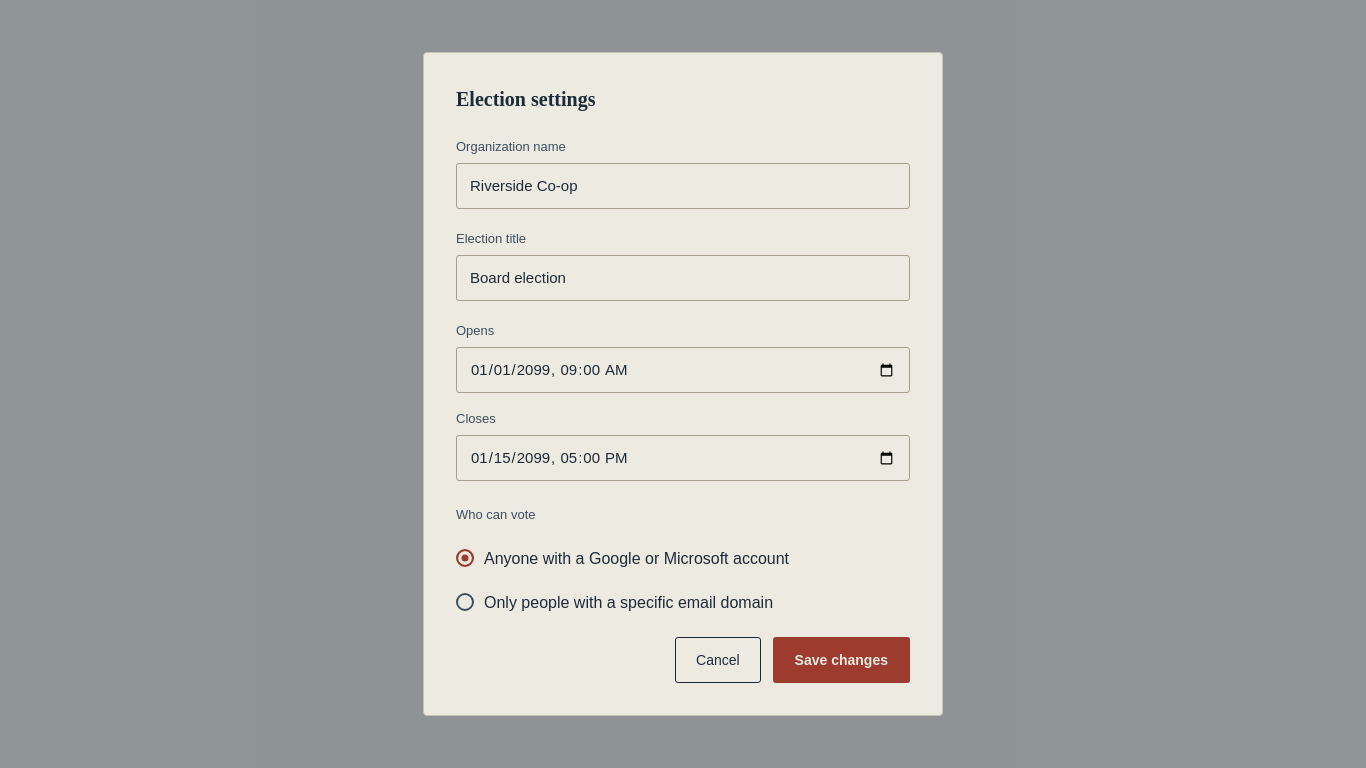
Test: ElectionSettingsModal validation › blocks save when voting closes before it opens
Replace the text in the field labelled "Closes" with "2000-01-01T00:00" at (683, 458), box [456,435,910,481]
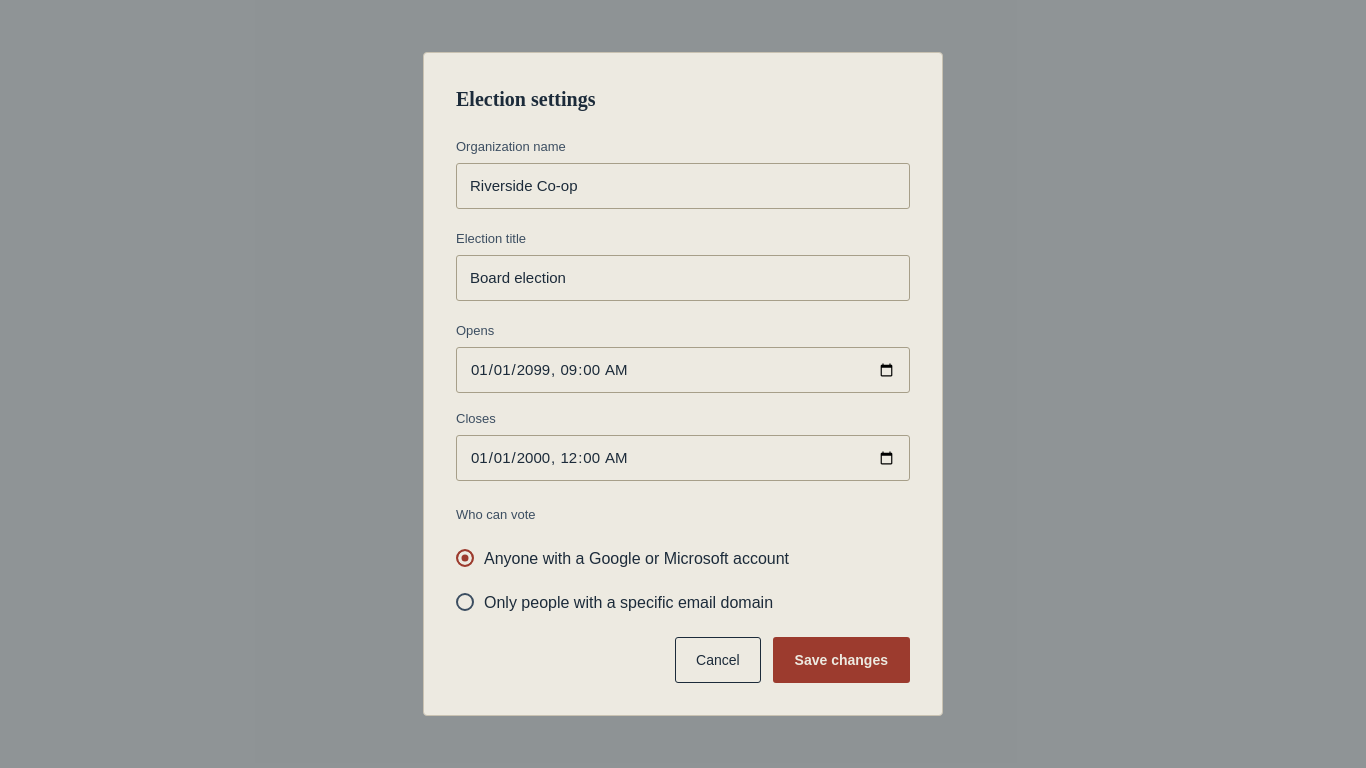
Click the button "Save changes" at (841, 660), box [773,637,910,683]
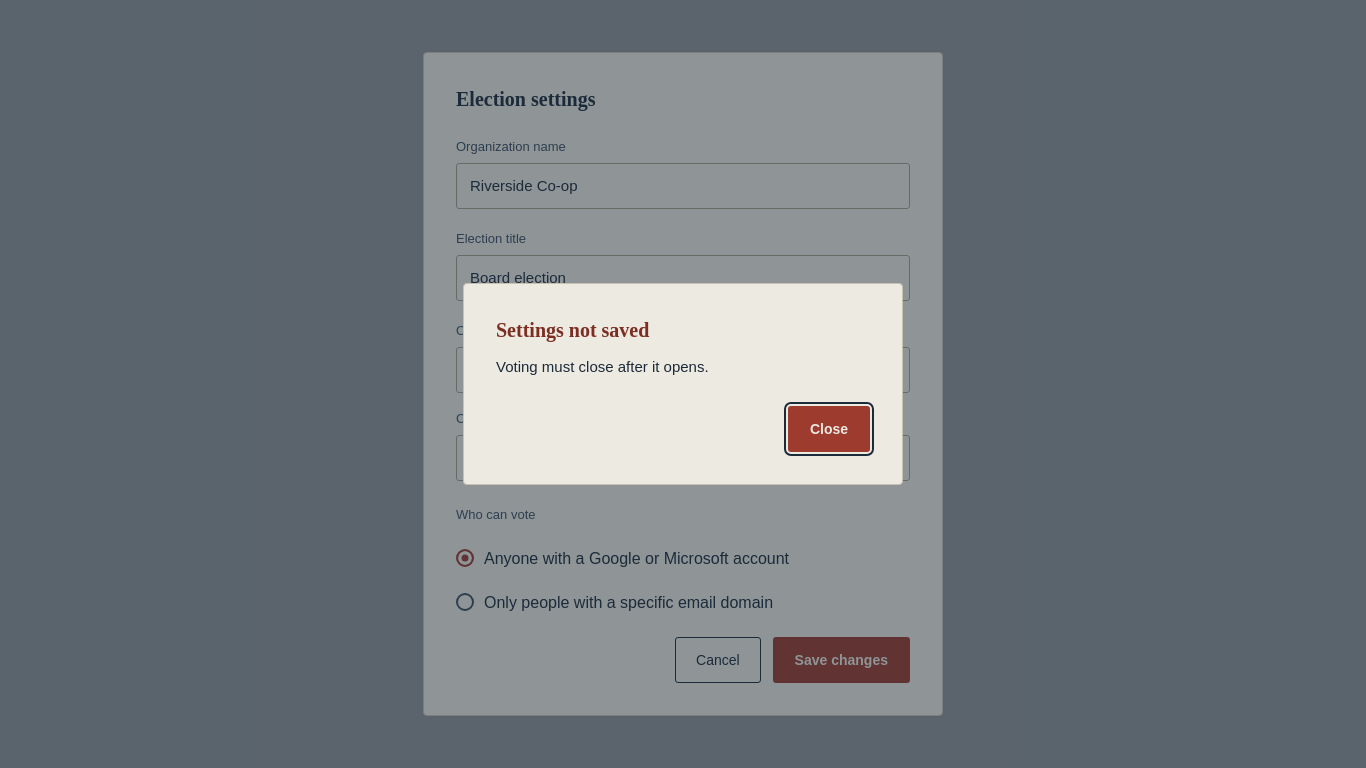
Check: the dialog shows "Voting must close after it opens.", box [496,358,709,375]
